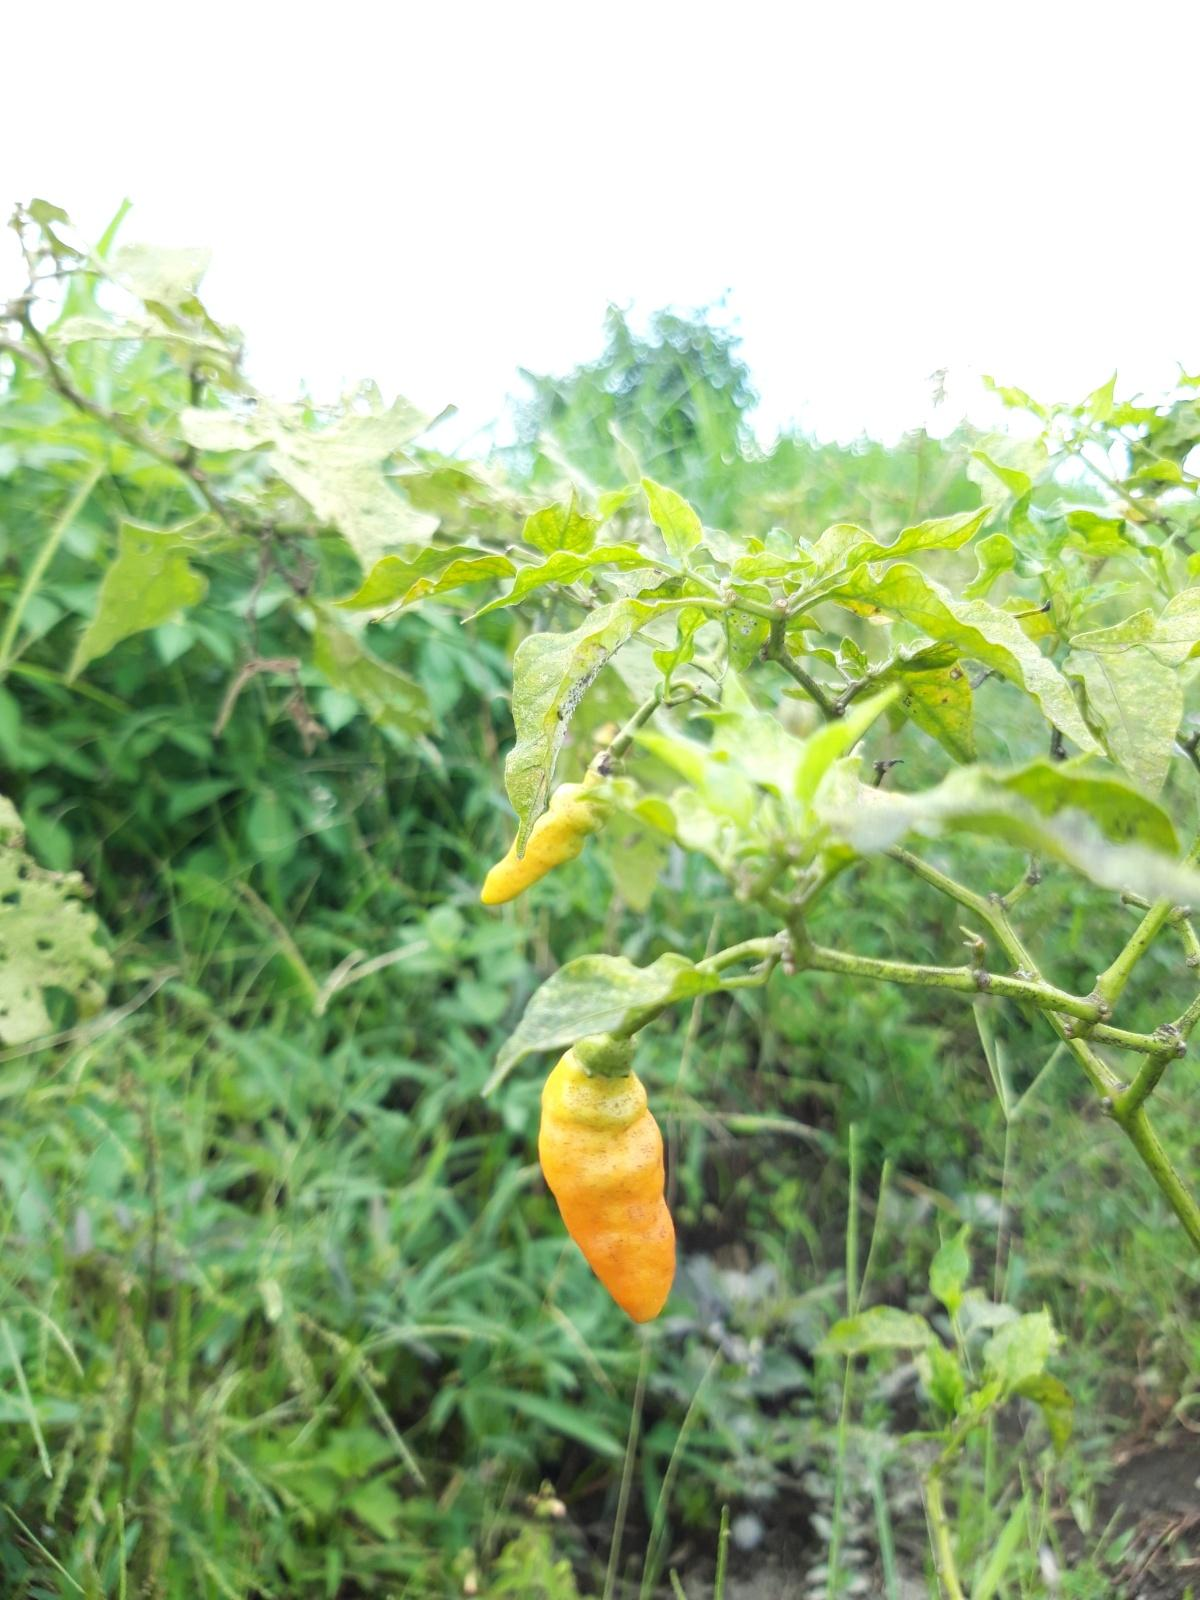cabai_normal: (537, 1042, 682, 1323), (476, 784, 605, 907)
